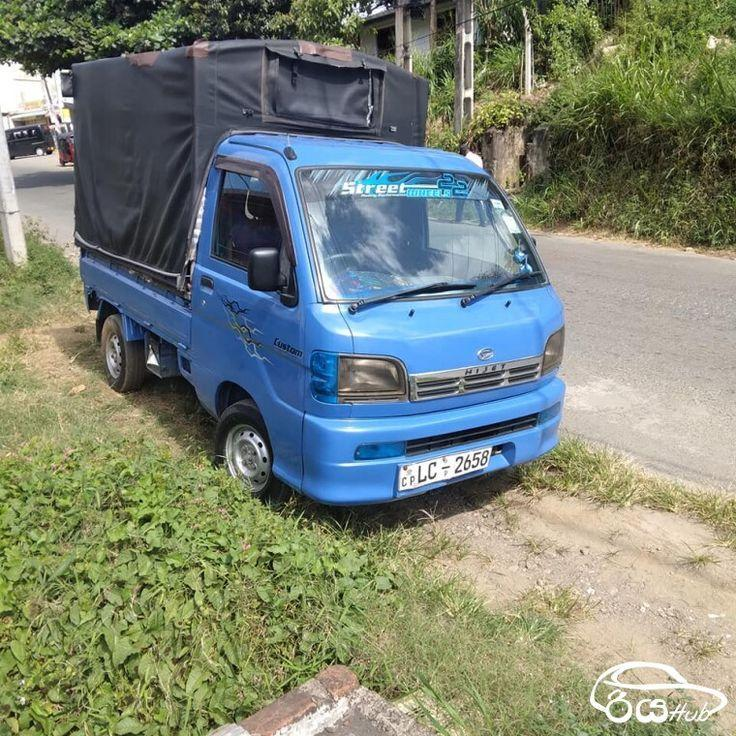truck: (69, 39, 566, 509)
